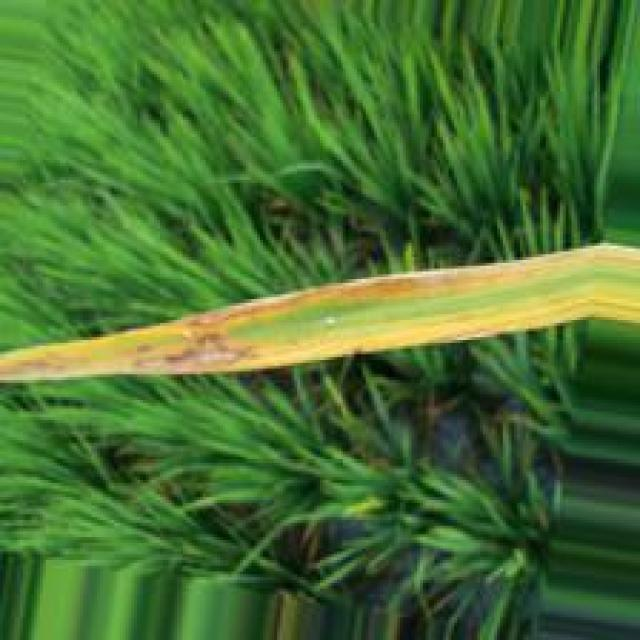Bacterial_Leaf_Blight: (0, 253, 576, 385)
